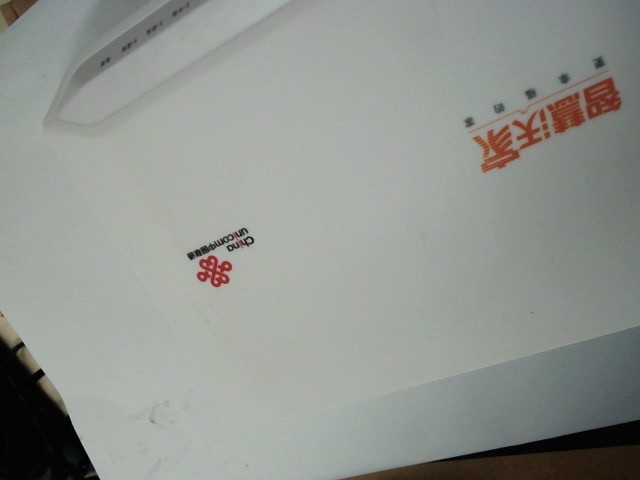AC_ChinaUnicom: (174, 221, 272, 296)
